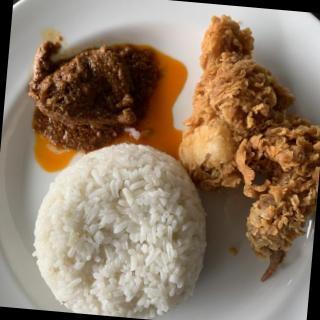Nasi: (28, 136, 215, 320)
